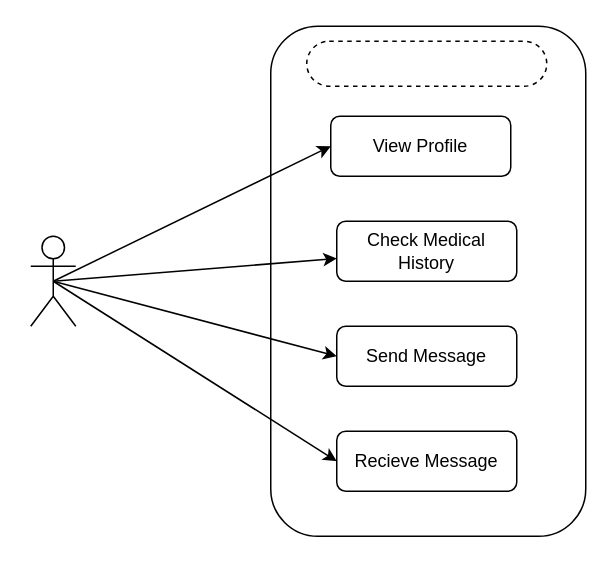
Some shapes in this 612 by 563 pixel diagram are drawn without their labels. Each missing label, with the centre of its shape:
"Clinic Management System" goes at [426,63].
"Patient" goes at [52,280].
